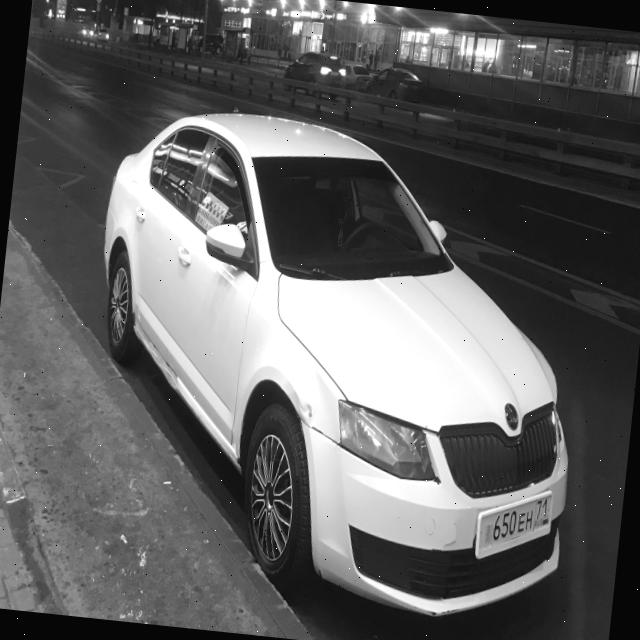number-plates: (472, 484, 553, 568)
